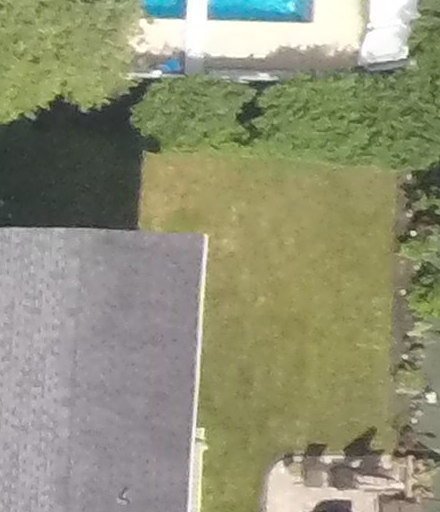container: (409, 227, 418, 239), (401, 352, 410, 363), (400, 286, 409, 296)
